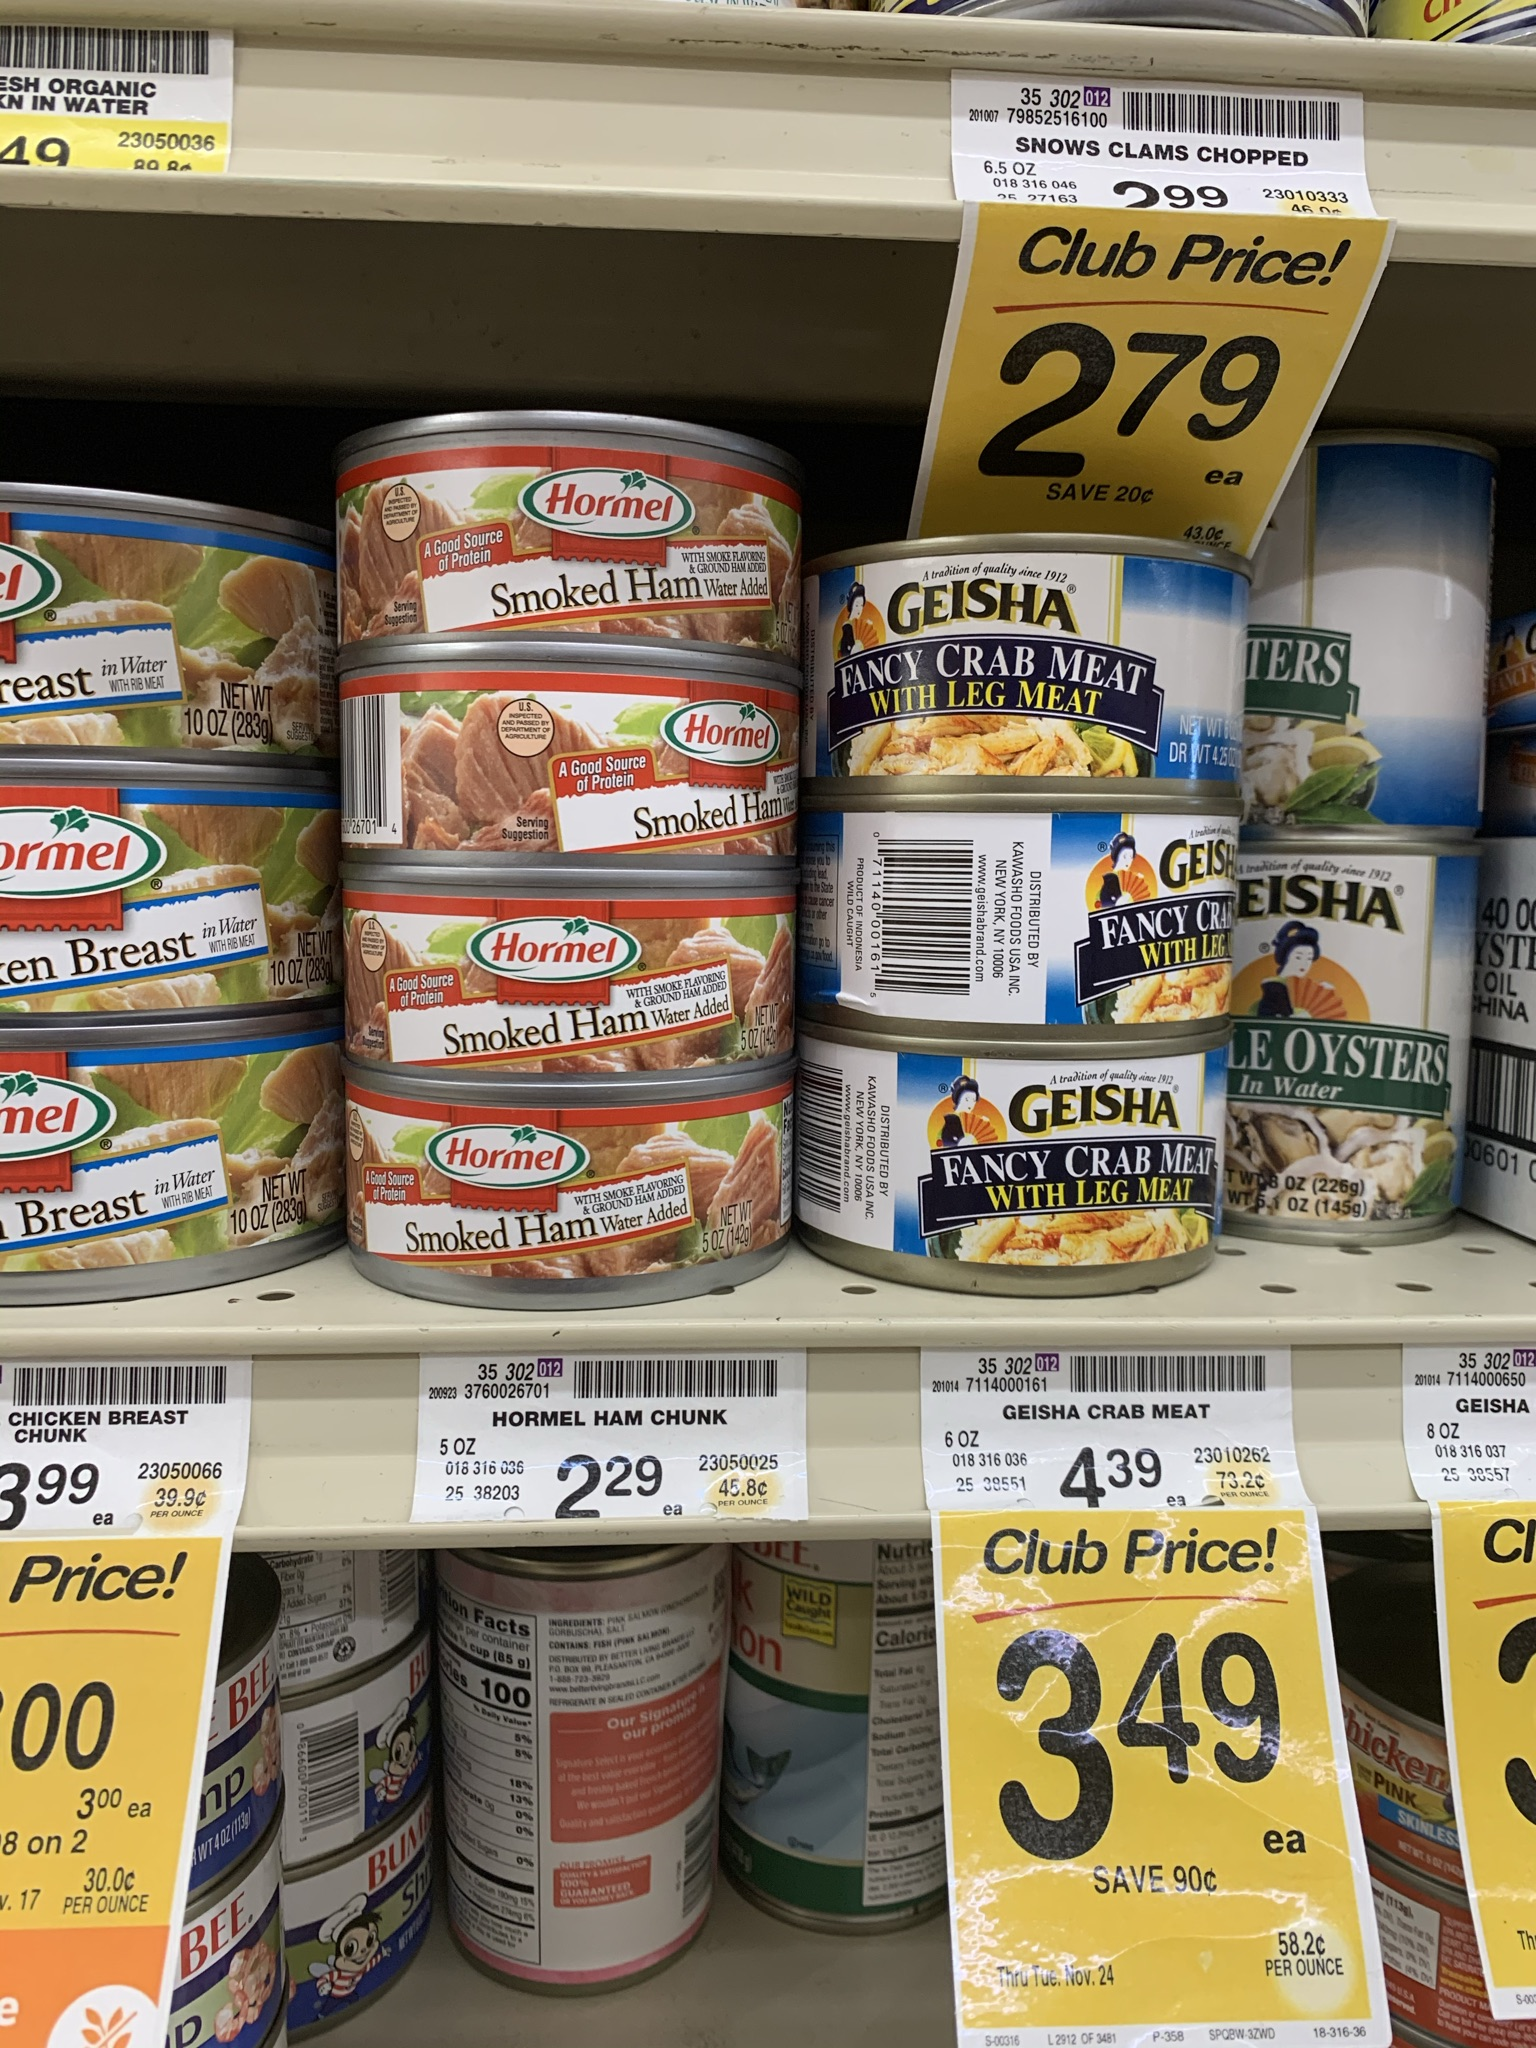can: (328, 406, 800, 660), (812, 532, 1252, 793), (805, 1039, 1228, 1293), (440, 1548, 697, 1958), (334, 658, 805, 880), (337, 1089, 797, 1305), (807, 810, 1242, 1032), (1246, 843, 1481, 1247), (332, 877, 799, 1080), (2, 1042, 290, 1266), (2, 543, 311, 742), (752, 1558, 925, 1906), (2, 801, 294, 1000)
